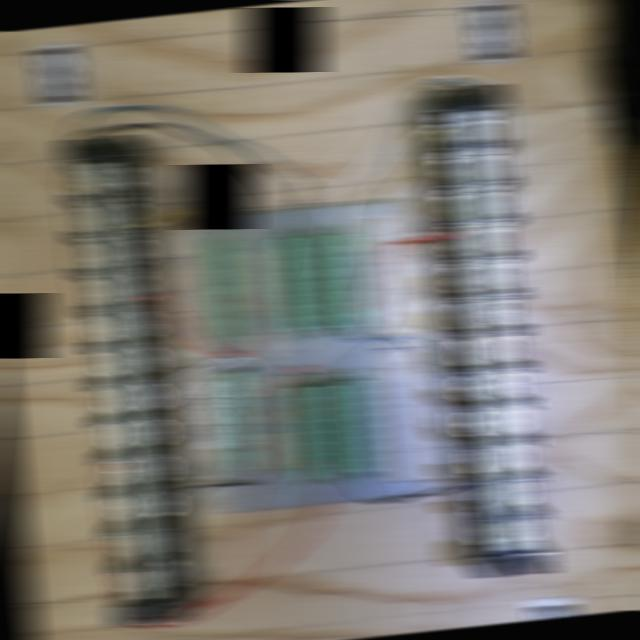Flathead_Block: (59, 132, 188, 628)
Phillips_Block: (428, 83, 552, 579)
Terminal_1: (218, 369, 262, 471), (206, 237, 247, 340)
Terminal_2: (298, 232, 339, 330), (312, 382, 353, 479), (283, 384, 324, 480), (328, 231, 368, 328), (268, 235, 308, 332)
